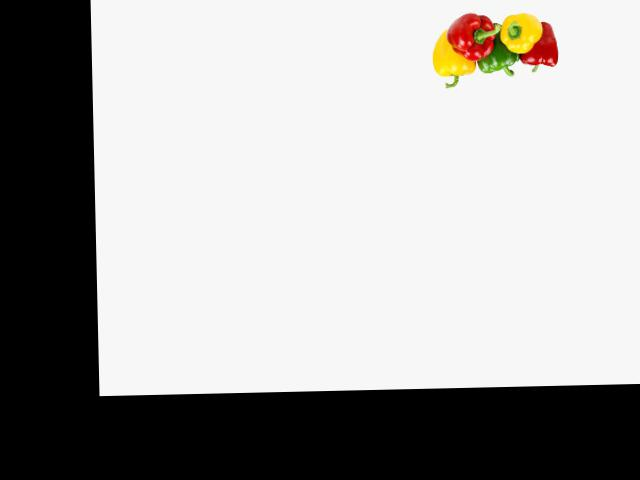bell_pepper: (519, 27, 561, 74)
